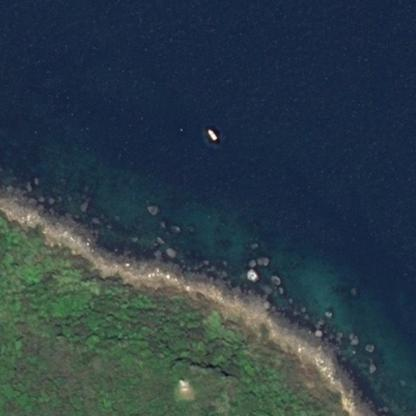ship: (206, 128, 217, 139)
